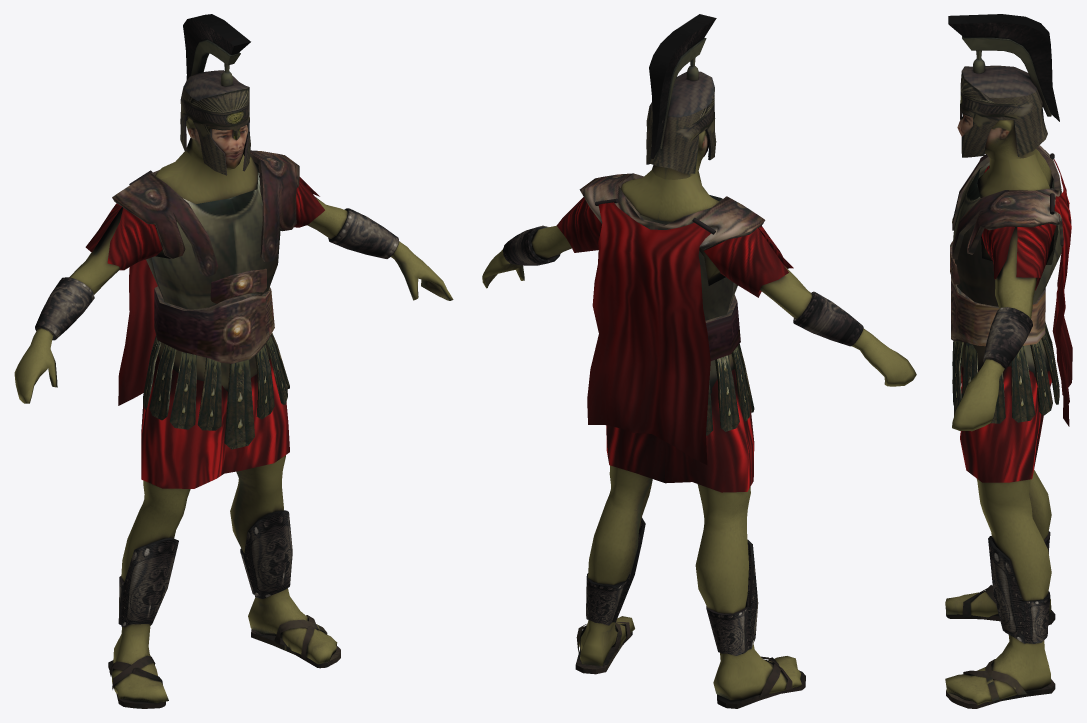
Rendered from spartan.obj.
The picture shows the model from 3 angles, left to right: view 1: azimuth 30°, elevation 25°; view 2: azimuth 150°, elevation 25°; view 3: azimuth 270°, elevation 25°; orthographic projection.
Visible parts, largest first — view 1: body; view 2: body; view 3: body.
Boxes of the visible parts, bbox=[...] form: body: bbox=[14, 14, 453, 708]; body: bbox=[482, 14, 916, 708]; body: bbox=[945, 14, 1072, 708].
Size of the model in its own units: 76.03 by 110 by 19.94.
Materials: 1 (1 with a texture image).
